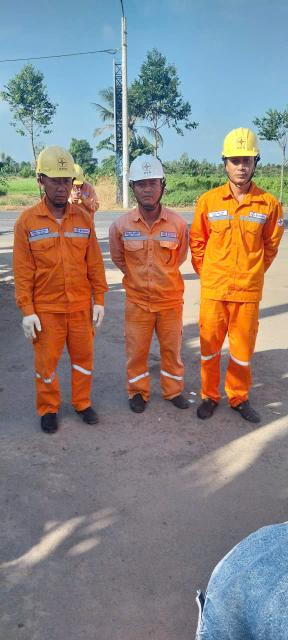gloves: (19, 316, 55, 343), (84, 301, 110, 331)
helmet: (219, 121, 268, 167), (29, 143, 80, 184), (122, 151, 173, 182), (64, 161, 89, 182)
shoes: (230, 395, 275, 435), (192, 386, 220, 423), (123, 381, 150, 419), (35, 406, 62, 438), (167, 387, 195, 416), (70, 406, 105, 422)
